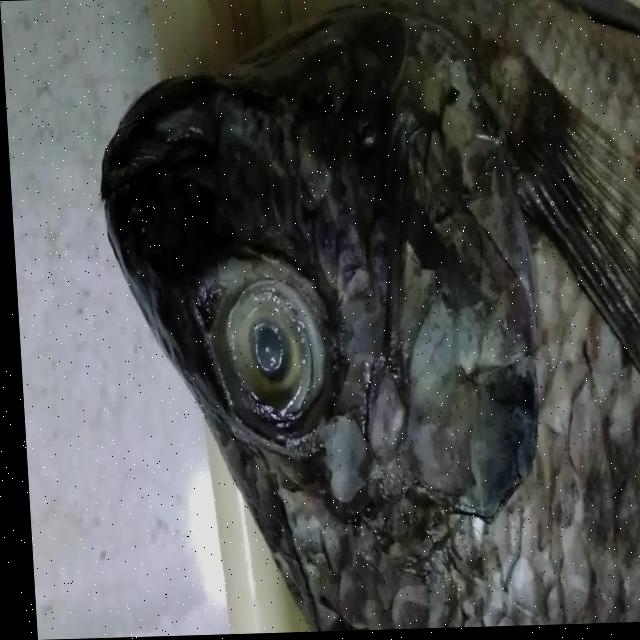Non-Fresh: (201, 262, 339, 447)
